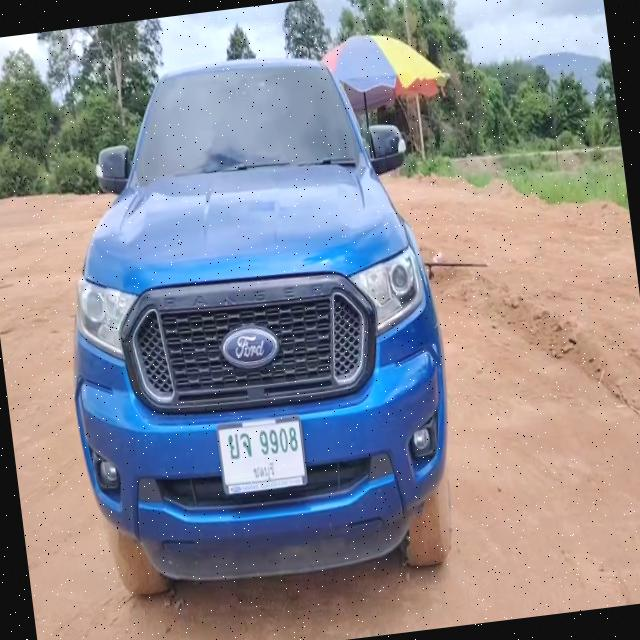Digit: (256, 424, 300, 458)
Licenseplate: (216, 416, 308, 496)
Provincename: (252, 459, 276, 482)
Thaichar: (226, 429, 252, 460)
